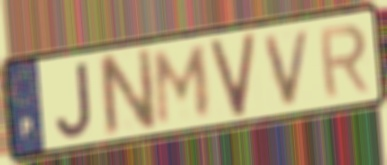J: (53, 58, 95, 141)
M: (153, 43, 213, 129)
N: (95, 44, 159, 141)
R: (316, 22, 372, 101)
V: (207, 30, 258, 121), (262, 25, 314, 108)
